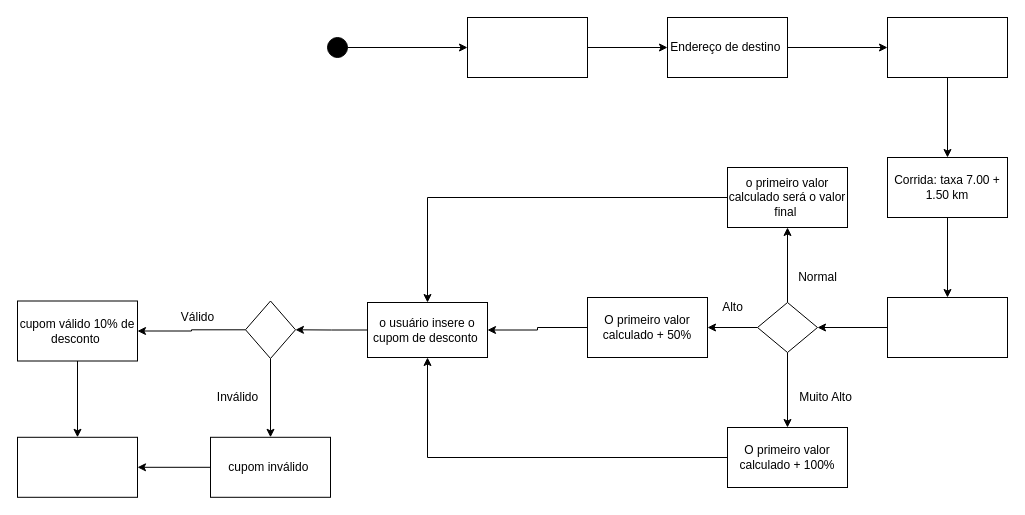
This 1025x515 diagram has some shape labels left out. Here are the shapes that lost their labels. From the top down, the box of each, then its label:
(466, 16, 588, 78): Endereço de partida
(886, 16, 1008, 78): calcular a distância entre ambos (Km)
(886, 296, 1008, 358): Verifica se muitas pessoas estão usando o aplicativo
(16, 436, 138, 497): valor final
